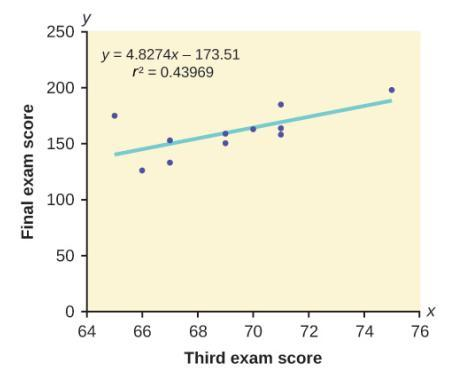axis: (86, 305, 424, 321), (82, 28, 93, 318)
point: (387, 85, 397, 95), (110, 111, 120, 120), (275, 101, 286, 109), (165, 136, 174, 145), (249, 125, 258, 134), (165, 158, 174, 167), (137, 166, 147, 174), (221, 139, 230, 147), (276, 131, 286, 138), (221, 130, 230, 137), (277, 124, 286, 131)
